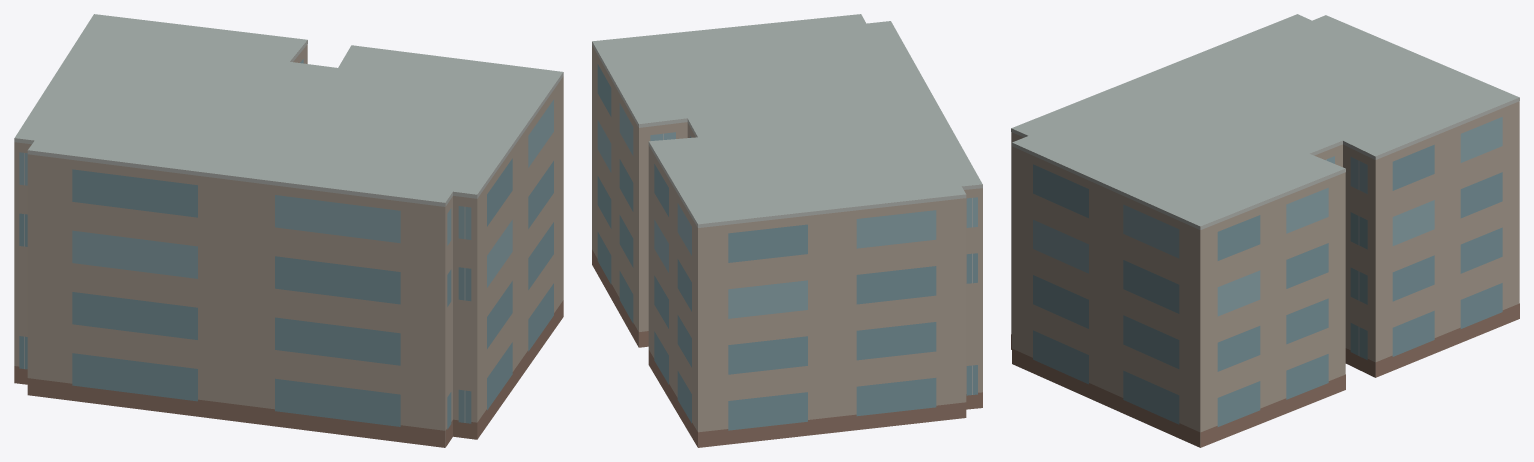
Rendered from survey-upis-32590293.glb.
3 views of the same model, side by side, from view 1: azimuth 30°, elevation 25°; view 2: azimuth 150°, elevation 25°; view 3: azimuth 270°, elevation 25° (orthographic). The views are drawn at different scales.
Parts seen in each view (by area): view 1: survey-upis-32590293.tmp; view 2: survey-upis-32590293.tmp; view 3: survey-upis-32590293.tmp.
Part boxes in pixels (x1,y1,x2,y2): survey-upis-32590293.tmp: (14,14,563,447); survey-upis-32590293.tmp: (592,14,982,447); survey-upis-32590293.tmp: (1011,14,1519,447).
Size of the model in its own units: 30.07 by 14.6 by 30.4.
